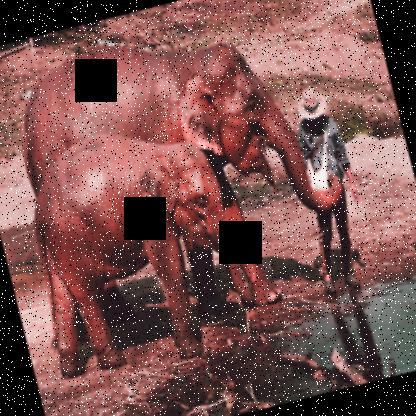Elephas-maximus: (1, 0, 369, 356), (4, 105, 265, 398)
